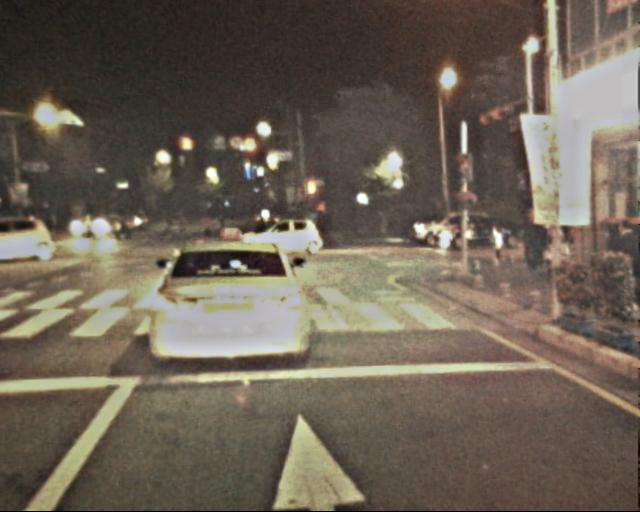person: (610, 217, 640, 312), (524, 209, 549, 276), (486, 220, 506, 272), (170, 208, 185, 245), (214, 211, 228, 245), (157, 209, 171, 242), (115, 209, 129, 242), (198, 213, 210, 243)
